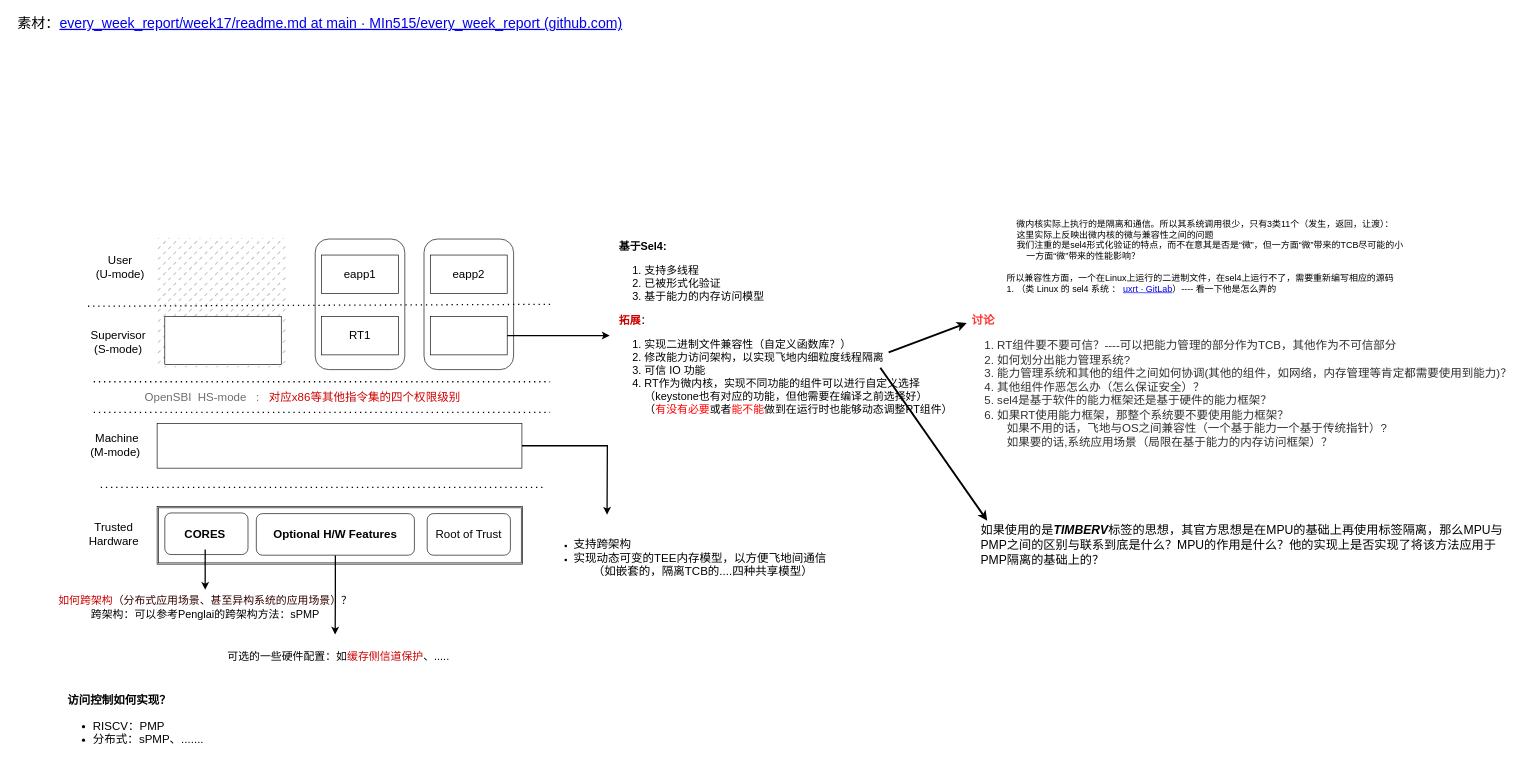
Image size: 1533x772. Some labels were removed from this diagram. The centre of each missing label's shape, as x and y in pixels:
"OS" belongs at point (222, 340).
"RT2" belongs at point (468, 335).
"Security Monitor (SM)" belongs at point (339, 445).
